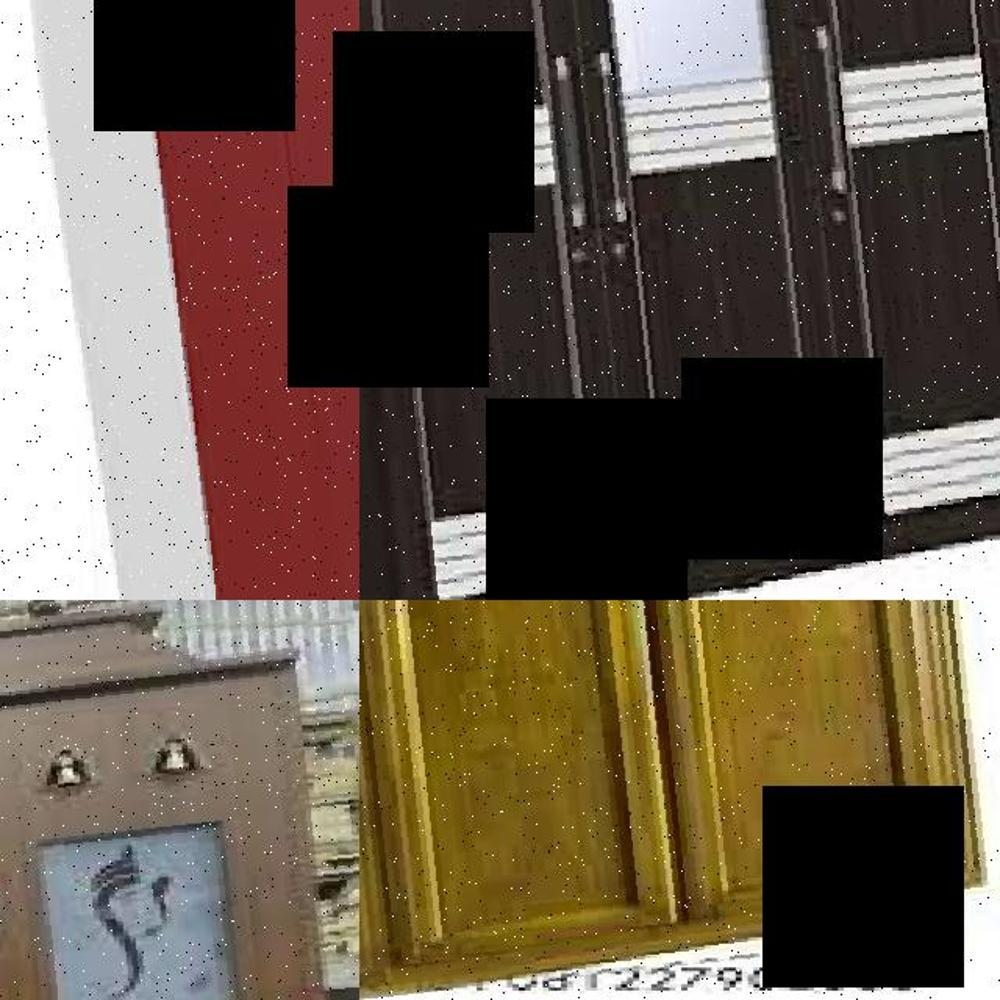cabinet: (359, 0, 1000, 600), (359, 600, 994, 1000), (0, 600, 359, 1000)
